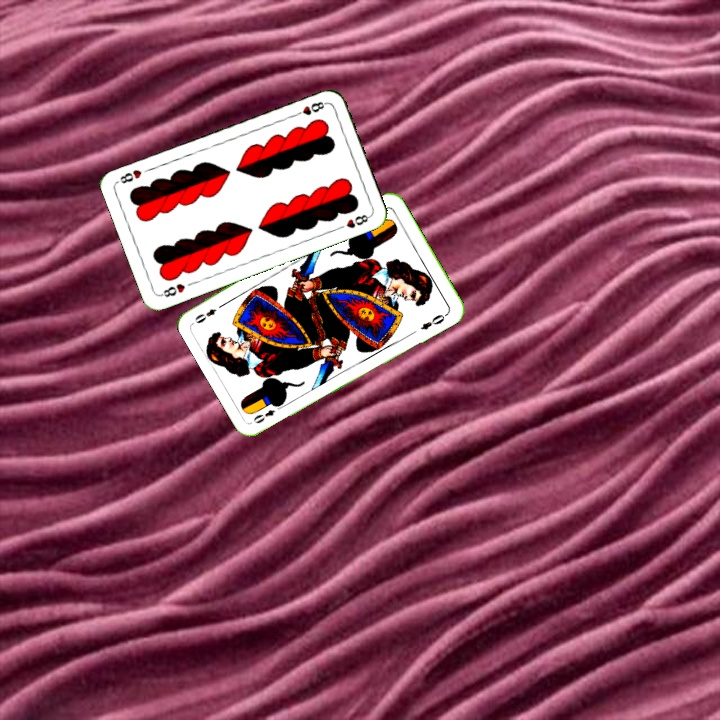EO: (249, 400, 286, 426)
H8: (290, 97, 329, 119), (157, 279, 188, 300)
